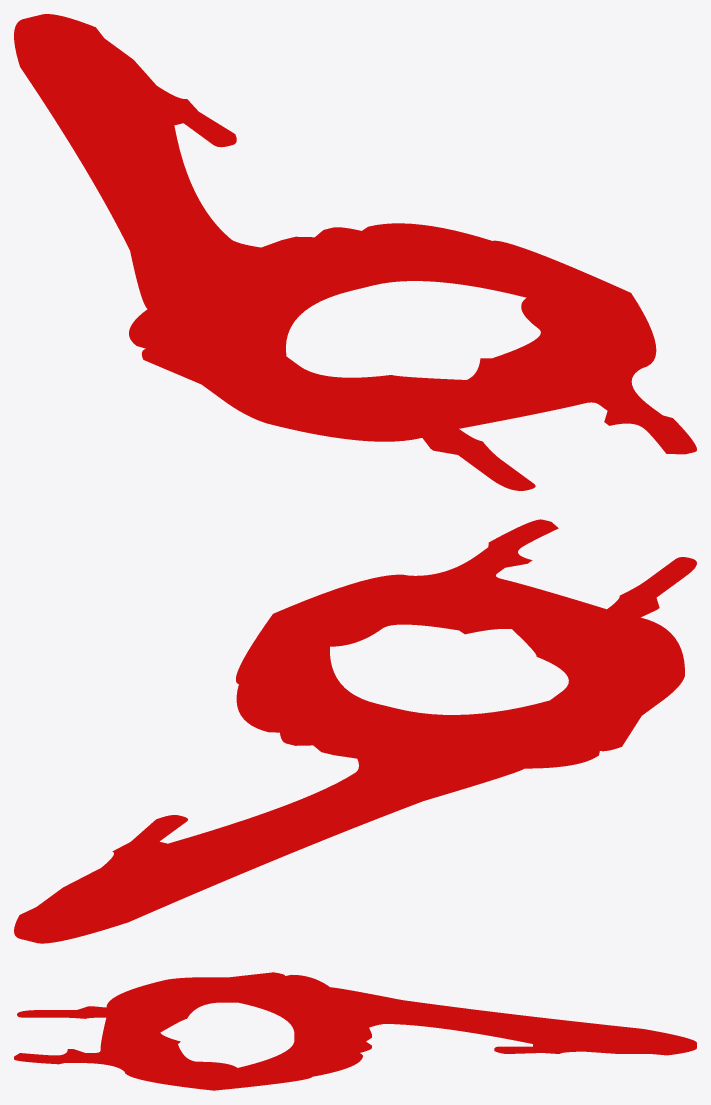
3 renders of one model, top to bottom at view 1: azimuth 30°, elevation 25°; view 2: azimuth 150°, elevation 25°; view 3: azimuth 270°, elevation 25°, orthographic. The views are drawn at different scales.
Visible parts, largest first — view 1: Text; view 2: Text; view 3: Text.
Part boxes in pixels (box(x1,y1,x2,y2)): Text: box(14, 14, 696, 490); Text: box(14, 519, 696, 943); Text: box(14, 972, 696, 1090).
Size of the model in its own units: 18.46 by 7.33e-06 by 45.01.
